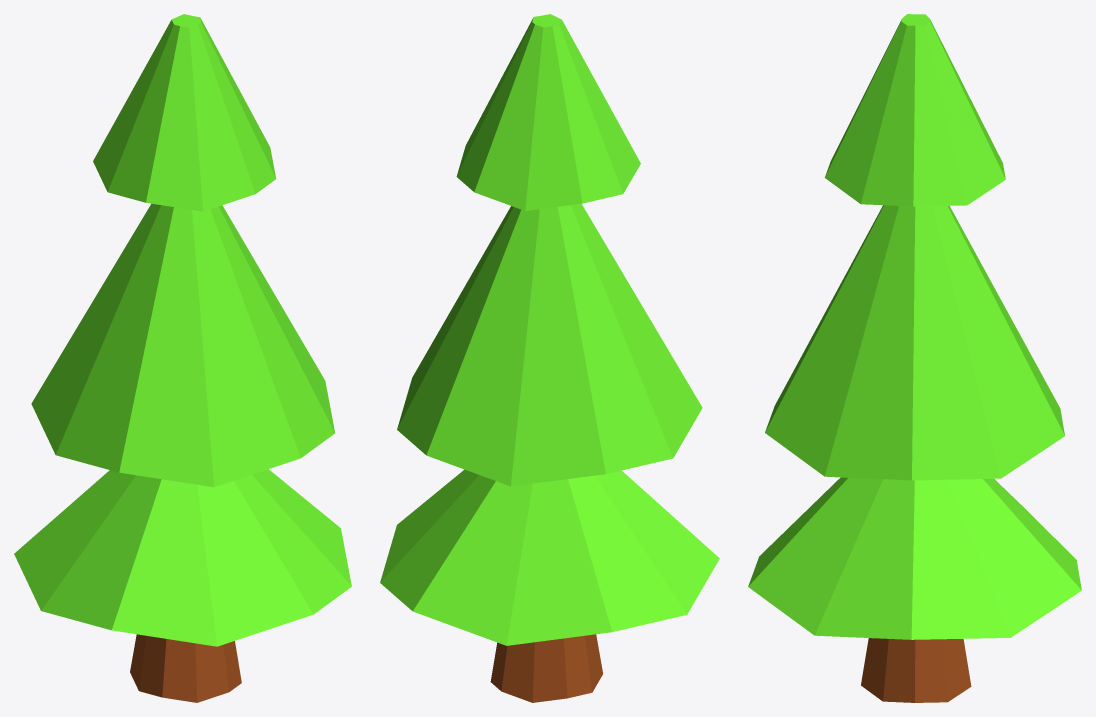
File: LowPolyTree_Upper.fbx
3 views of the same model, side by side, from view 1: azimuth 30°, elevation 25°; view 2: azimuth 150°, elevation 25°; view 3: azimuth 270°, elevation 25° (orthographic).
Visible parts, largest first — view 1: Icosphere.002_Icosphere.005; view 2: Icosphere.002_Icosphere.005; view 3: Icosphere.002_Icosphere.005.
Part boxes in pixels (bbox=[...]): Icosphere.002_Icosphere.005: bbox=[14, 14, 351, 702]; Icosphere.002_Icosphere.005: bbox=[380, 14, 719, 702]; Icosphere.002_Icosphere.005: bbox=[748, 14, 1081, 702].
Bounding box in the file's own units: 94.39 × 202 × 92.02.
